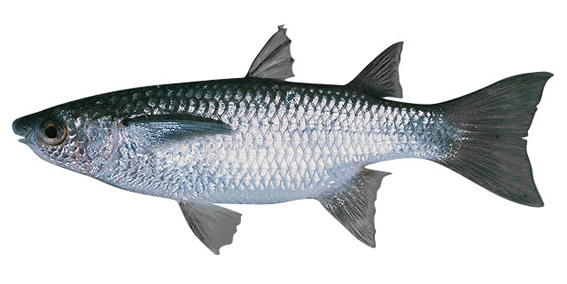fish: (12, 23, 554, 256)
